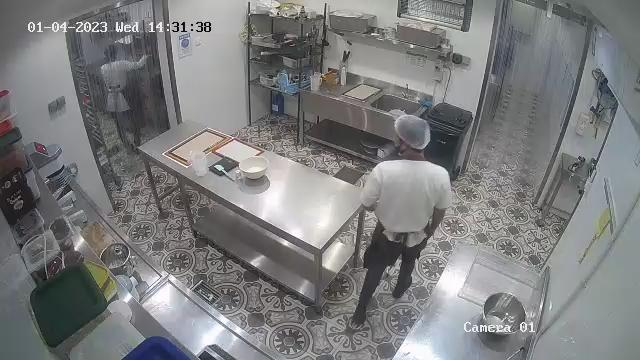apron: (375, 213, 430, 243)
